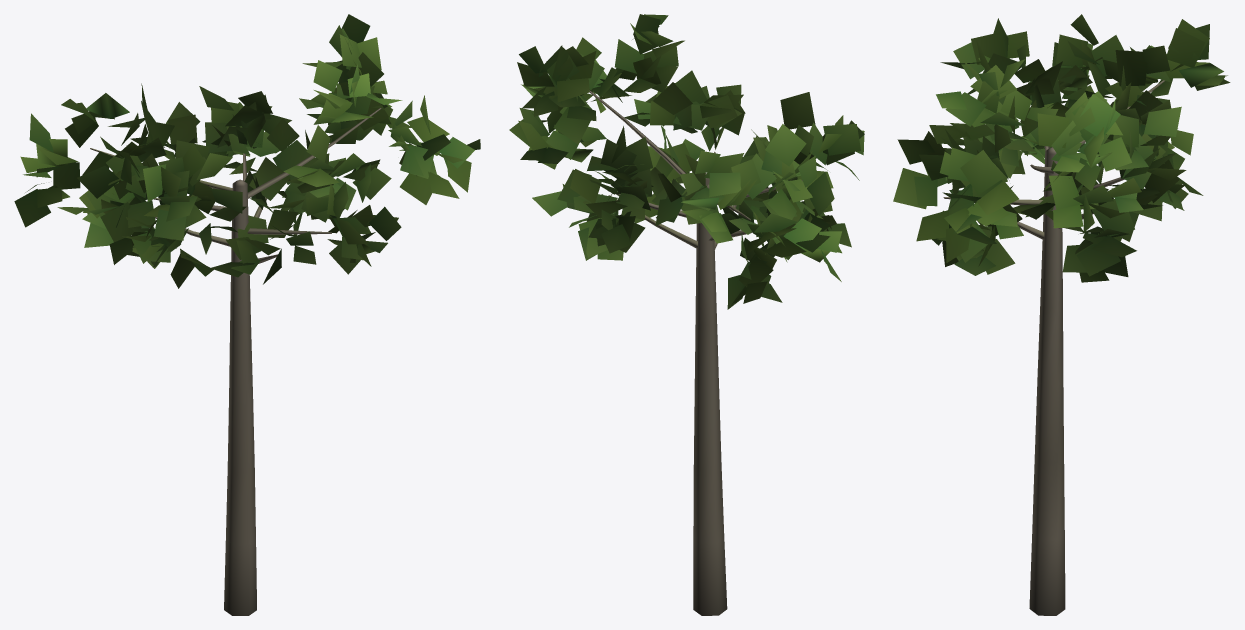
File: emergent-b.lod2.glb
3 renders of one model, left to right at view 1: azimuth 30°, elevation 25°; view 2: azimuth 150°, elevation 25°; view 3: azimuth 270°, elevation 25°, orthographic. The views are drawn at different scales.
Bounding box in the file's own units: 14.69 × 19.8 × 10.33.
